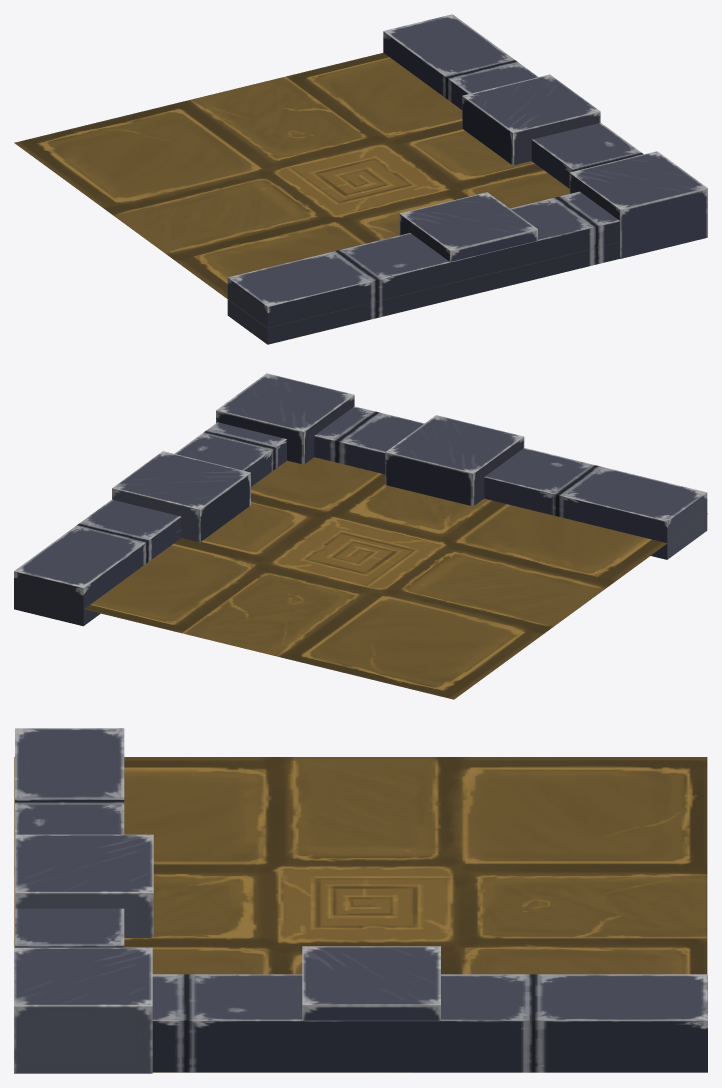
File: Outer Path.FBX
The picture shows the model from 3 angles, top to bottom: view 1: azimuth 30°, elevation 25°; view 2: azimuth 150°, elevation 25°; view 3: azimuth 270°, elevation 25°; orthographic projection. The views are drawn at different scales.
Visible parts, largest first — view 1: path_outercorner; view 2: path_outercorner; view 3: path_outercorner.
Part boxes in pixels (x1,y1,x2,y2): path_outercorner: (14,14,707,344); path_outercorner: (14,373,707,699); path_outercorner: (14,728,707,1073).
Bounding box in the file's own units: 50.16 × 5.38 × 50.08.
